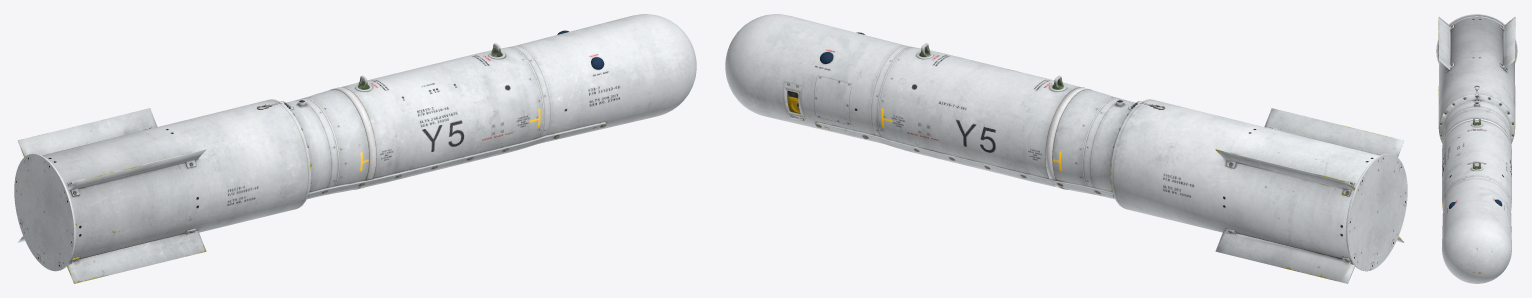
Rendered from b28fi_thermonuclear_bomb.glb.
3 renders of one model, left to right at view 1: azimuth 30°, elevation 25°; view 2: azimuth 150°, elevation 25°; view 3: azimuth 270°, elevation 25°, orthographic. The views are drawn at different scales.
Parts seen in each view (by area): view 1: us_b28fi_y5_1_45mt_nuclear_bomb_1, us_b28fi_y5_1_45mt_nuclear_bomb_cap_0; view 2: us_b28fi_y5_1_45mt_nuclear_bomb_1, us_b28fi_y5_1_45mt_nuclear_bomb_cap_0; view 3: us_b28fi_y5_1_45mt_nuclear_bomb_1, us_b28fi_y5_1_45mt_nuclear_bomb_cap_0.
Boxes of the visible parts, bbox=[...] form: us_b28fi_y5_1_45mt_nuclear_bomb_1: bbox=[18, 14, 696, 283]; us_b28fi_y5_1_45mt_nuclear_bomb_cap_0: bbox=[14, 153, 75, 271]; us_b28fi_y5_1_45mt_nuclear_bomb_1: bbox=[725, 14, 1403, 283]; us_b28fi_y5_1_45mt_nuclear_bomb_cap_0: bbox=[1346, 153, 1407, 271]; us_b28fi_y5_1_45mt_nuclear_bomb_1: bbox=[1438, 17, 1515, 283]; us_b28fi_y5_1_45mt_nuclear_bomb_cap_0: bbox=[1436, 14, 1517, 63].
Size of the model in its own units: 3.7 by 0.6141 by 0.5971.
1 material, 1 textured.
